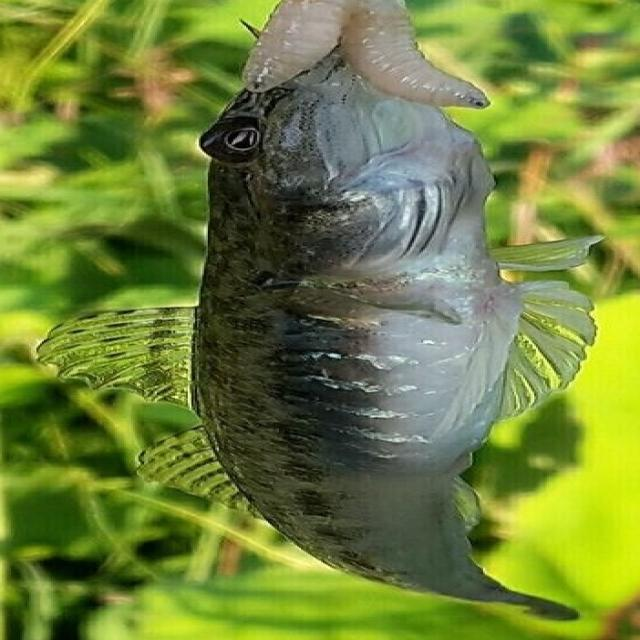Goby: (55, 13, 579, 623)
